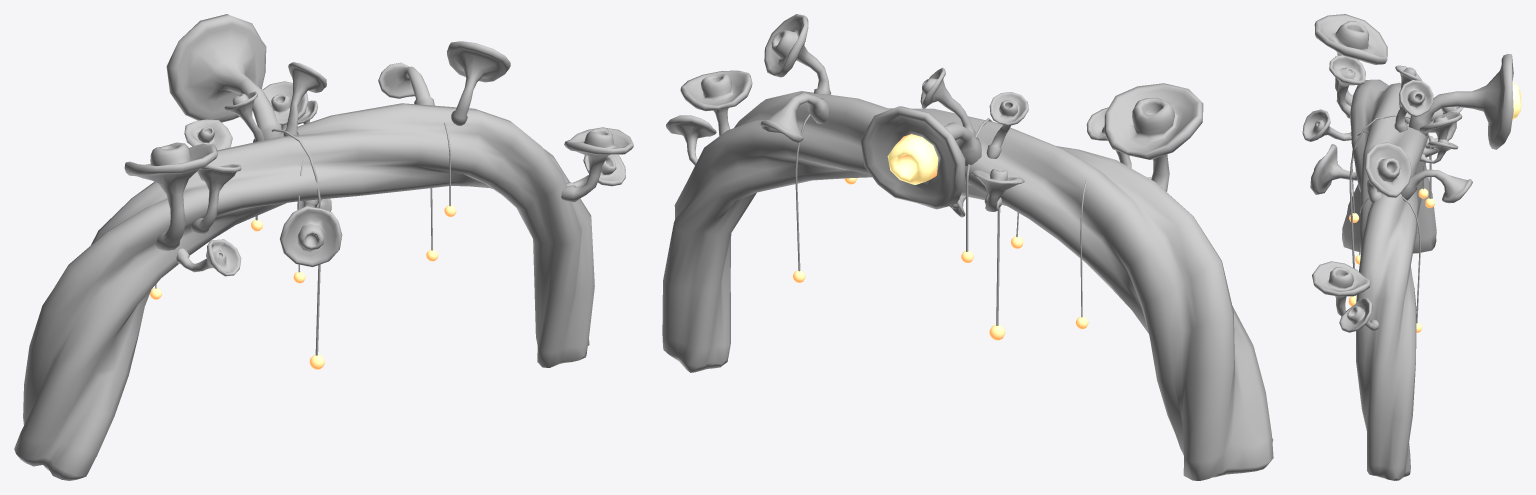
Rendered from projetAaronLightPlant_edit_for_FBX.fbx.
3 views of the same model, side by side, from view 1: azimuth 30°, elevation 25°; view 2: azimuth 150°, elevation 25°; view 3: azimuth 270°, elevation 25° (orthographic). The views are drawn at different scales.
Visible parts, largest first — view 1: projetAaronLightPlant; view 2: projetAaronLightPlant; view 3: projetAaronLightPlant.
Part boxes in pixels (x1=…): projetAaronLightPlant: x1=14, y1=14, x2=633, y2=480; projetAaronLightPlant: x1=662, y1=14, x2=1273, y2=480; projetAaronLightPlant: x1=1302, y1=14, x2=1521, y2=480.
Bounding box in the file's own units: 1022 × 595 × 388.
